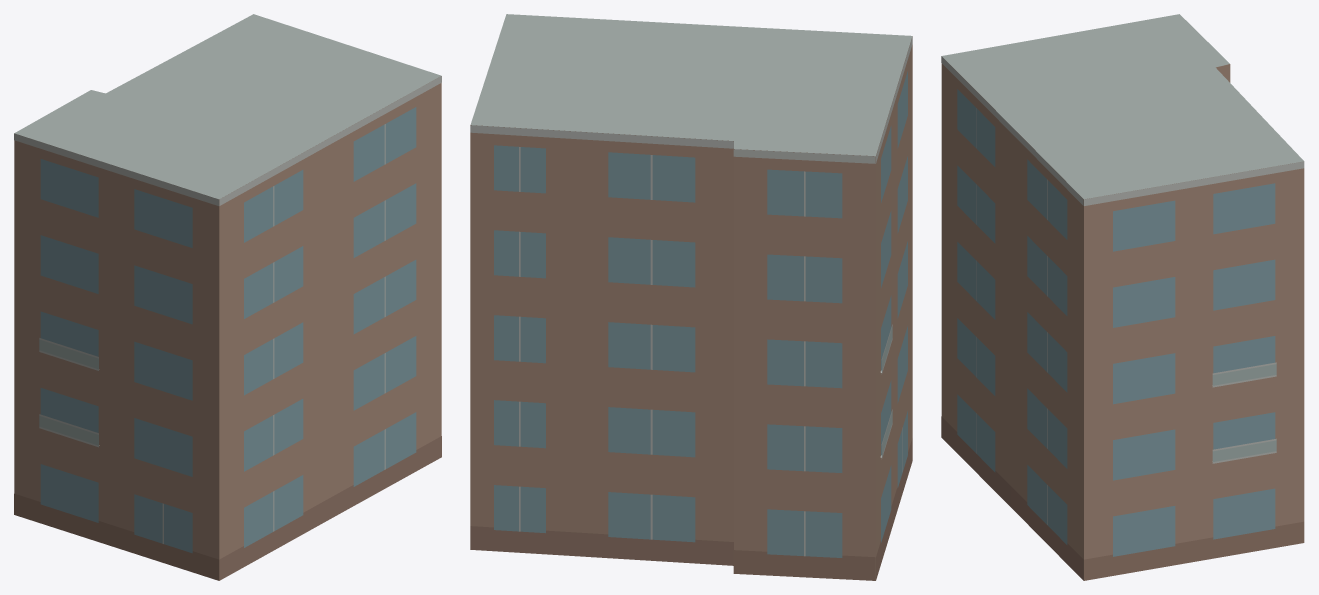
The model's file is survey-upis-32582135.glb.
The picture shows the model from 3 angles, left to right: view 1: azimuth 30°, elevation 25°; view 2: azimuth 150°, elevation 25°; view 3: azimuth 270°, elevation 25°; orthographic projection. The views are drawn at different scales.
Parts seen in each view (by area): view 1: survey-upis-32582135.tmp; view 2: survey-upis-32582135.tmp; view 3: survey-upis-32582135.tmp.
Boxes of the visible parts, left/top/right/bottom form: survey-upis-32582135.tmp: left=14, top=14, right=441, bottom=580; survey-upis-32582135.tmp: left=470, top=14, right=912, bottom=580; survey-upis-32582135.tmp: left=941, top=14, right=1304, bottom=580.
Bounding box in the file's own units: 14.07 × 13.5 × 11.64.
